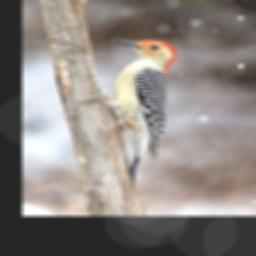Woodpecker: (72, 38, 176, 185)
